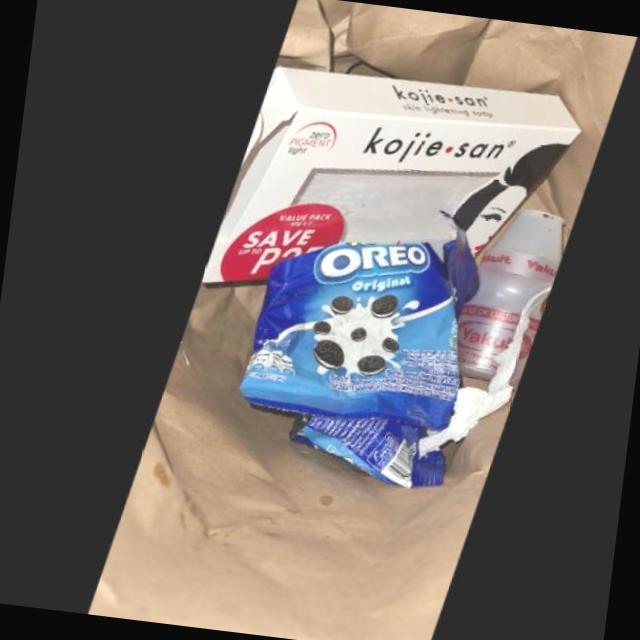bao_bi_thuc_pham: (235, 238, 454, 485)
carton: (194, 61, 571, 301)
chai_nhua: (452, 204, 559, 383)
giay: (414, 281, 546, 457)
